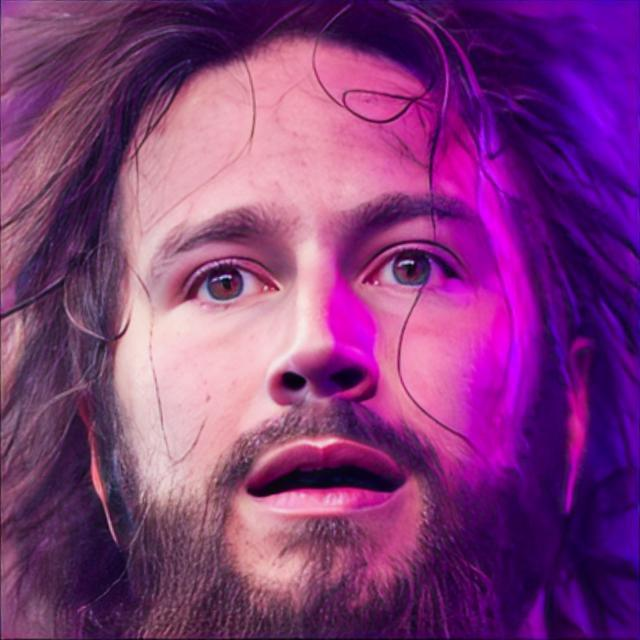fear: (114, 29, 540, 640)
